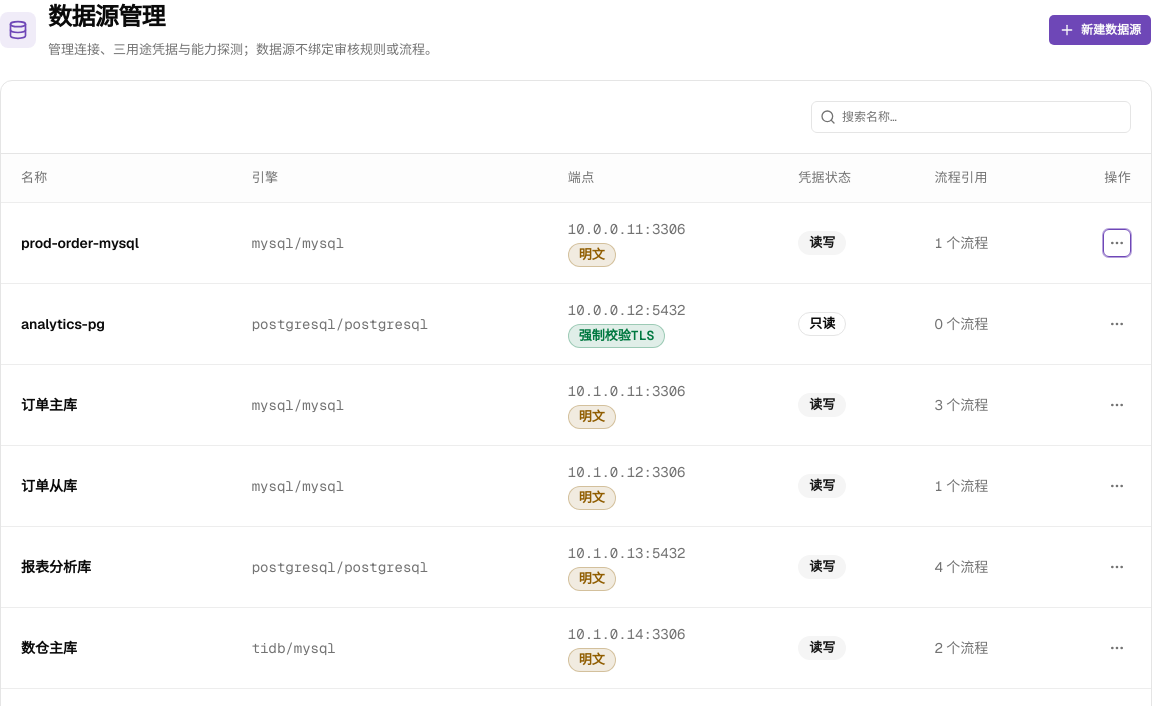
Test: gate: Secret永不回填 › leaves every datasource credential field empty when editing a configured row
Press Enter
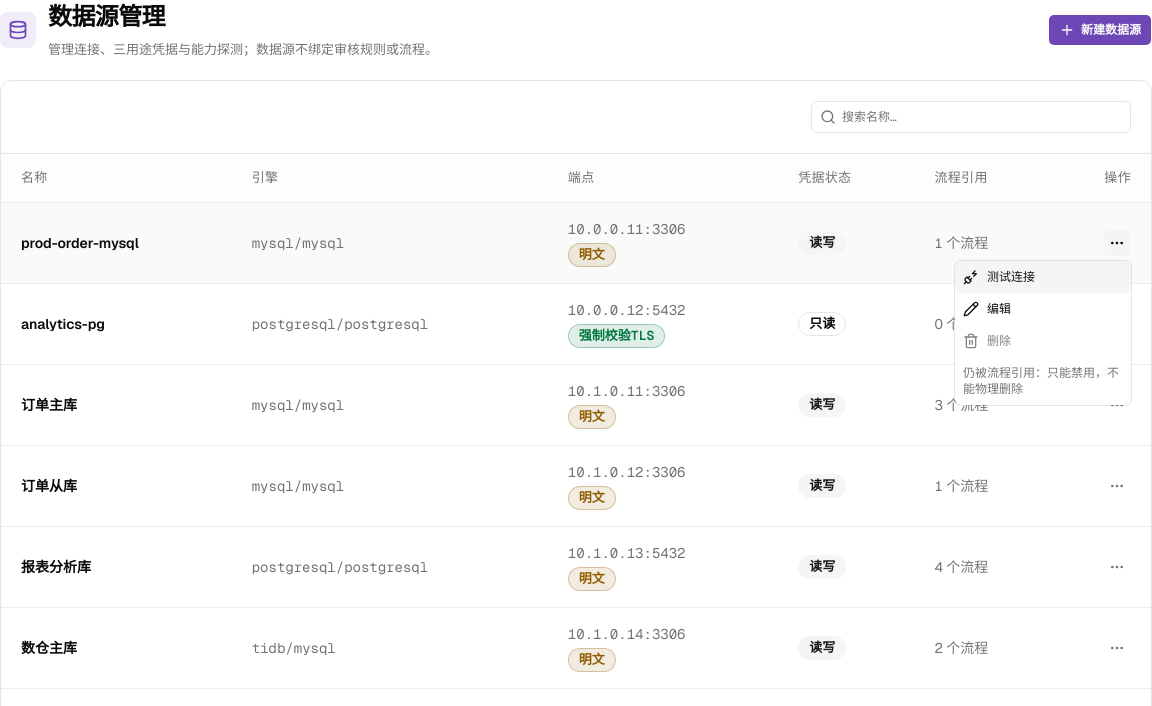
Click the menu item "编辑": (987, 309) [963,301,1011,317]
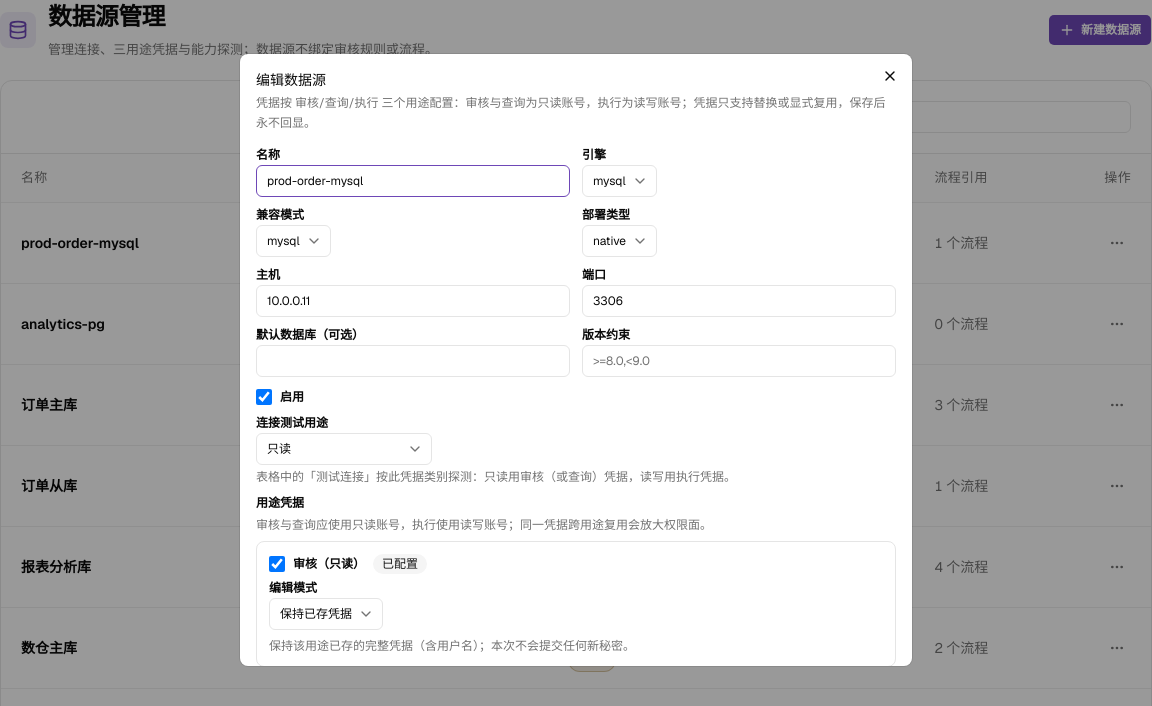
Result: the element with test id "credential-row-review" is shown at [256,541,896,666]
Result: the icon "已配置" is shown at [373,554,427,574]
